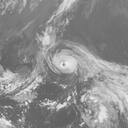cyclone: (52, 50, 78, 75)
